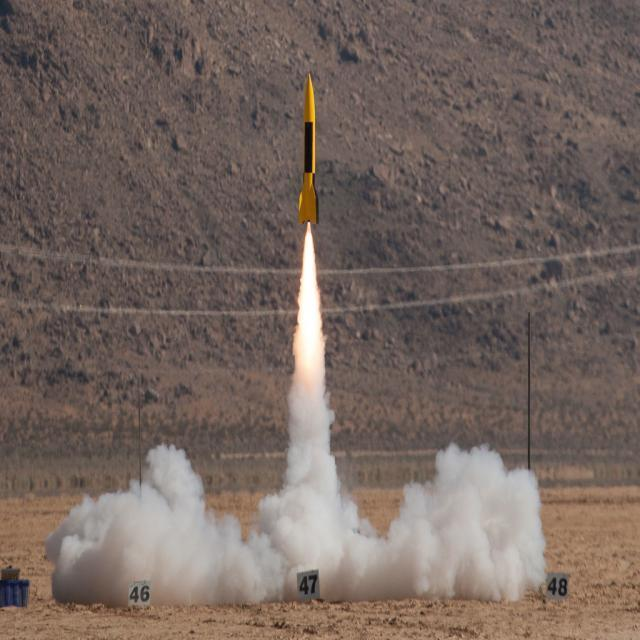missile: (299, 71, 320, 227)
